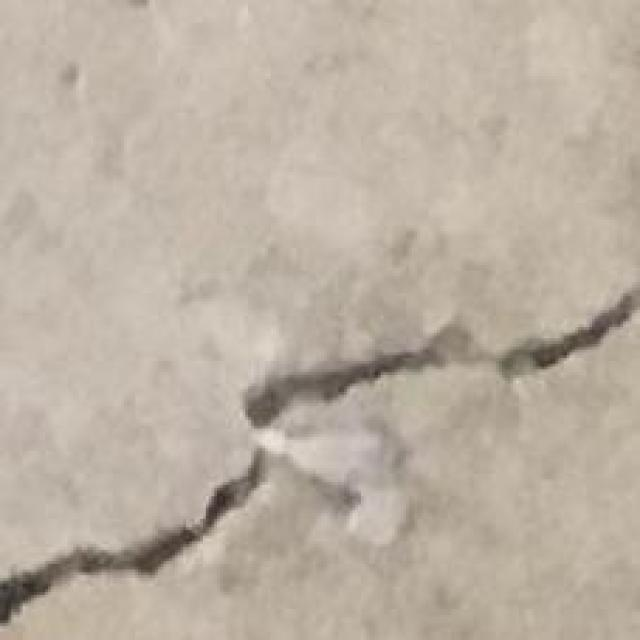curved crack: (0, 285, 639, 624)
